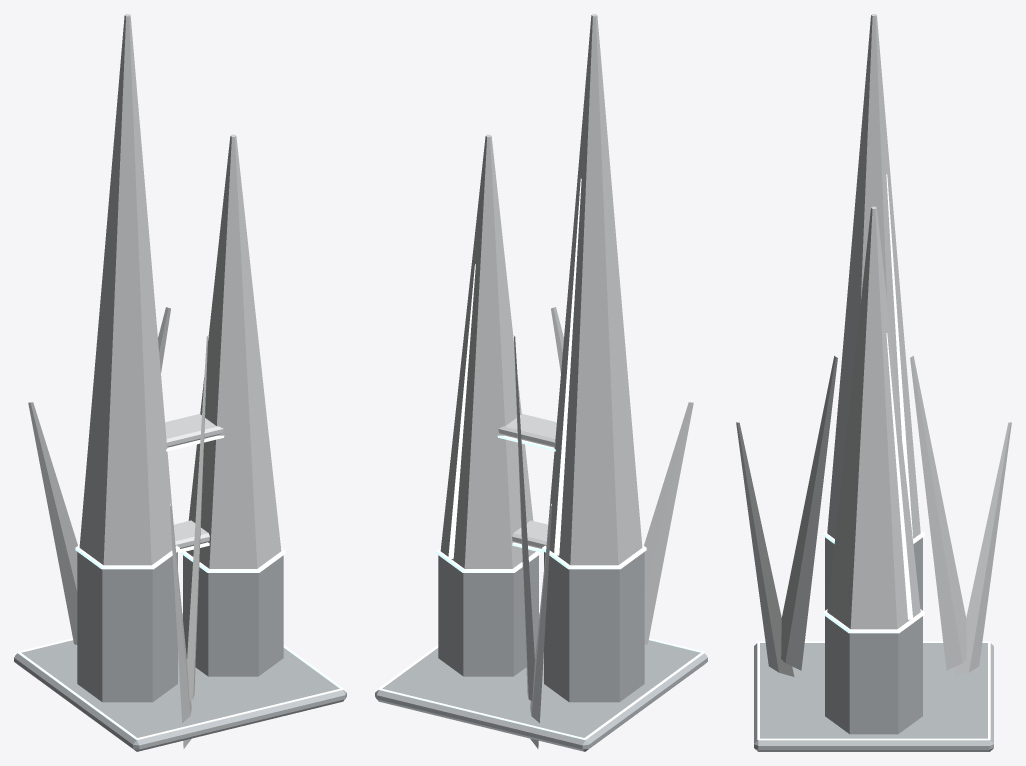
Rendered from zone_high_3.glb.
The picture shows the model from 3 angles, left to right: view 1: azimuth 30°, elevation 25°; view 2: azimuth 150°, elevation 25°; view 3: azimuth 270°, elevation 25°; orthographic projection. The views are drawn at different scales.
Parts seen in each view (by area): view 1: zone_high_3, detail; view 2: zone_high_3, detail; view 3: zone_high_3, detail.
Boxes of the visible parts, x1,y1,x2,y2 form: zone_high_3: [14, 14, 346, 751]; detail: [17, 611, 343, 739]; zone_high_3: [375, 14, 707, 751]; detail: [378, 611, 704, 739]; zone_high_3: [736, 14, 1011, 751]; detail: [757, 641, 990, 740].
Bounding box in the file's own units: 27.5 × 85.69 × 31.56.
